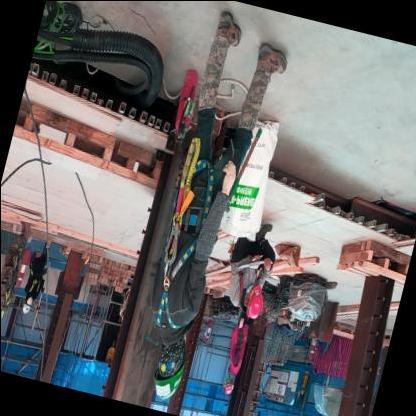Helmet: (144, 353, 190, 405)
safety-shoe: (249, 32, 298, 76), (205, 15, 247, 52)
